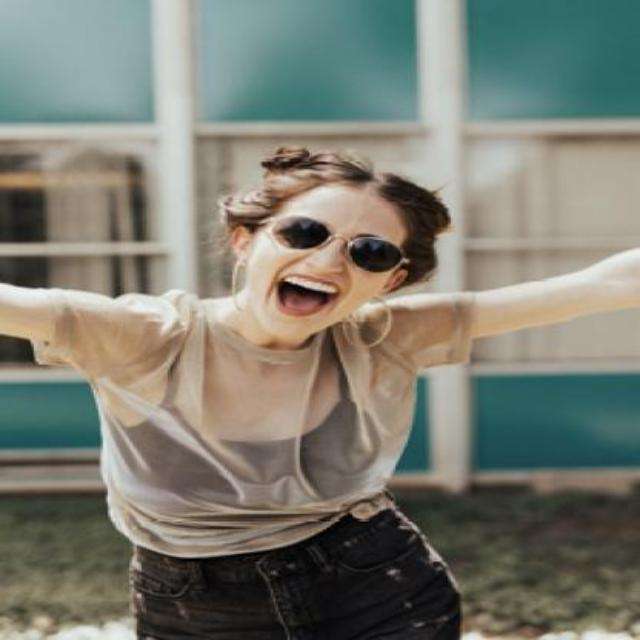sunglasses: (251, 214, 407, 274)
